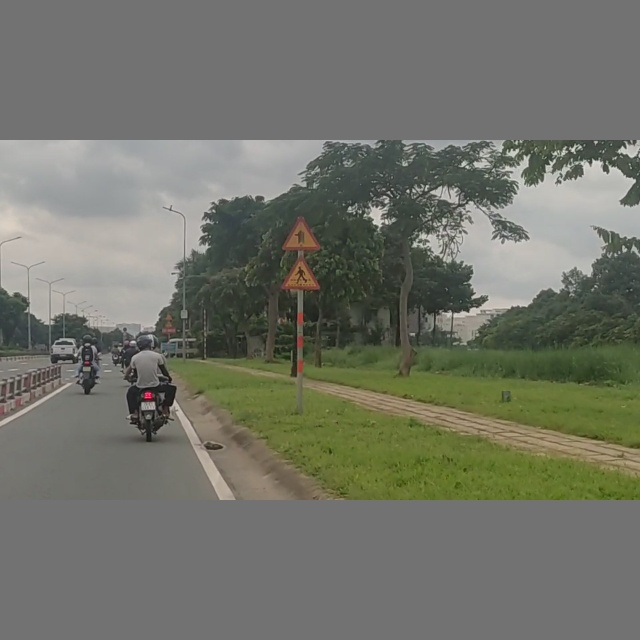W.207: (282, 216, 321, 251)
W.224: (281, 255, 321, 290)
